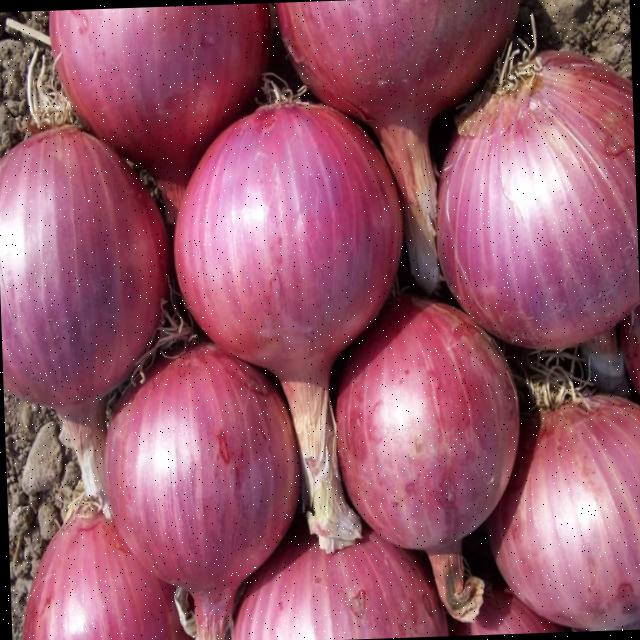Onion: (173, 93, 400, 552), (276, 0, 517, 292), (0, 125, 167, 517), (436, 34, 639, 348), (334, 295, 517, 622), (102, 344, 298, 640), (47, 2, 268, 185), (486, 394, 640, 628), (230, 527, 446, 640), (21, 513, 190, 640)
